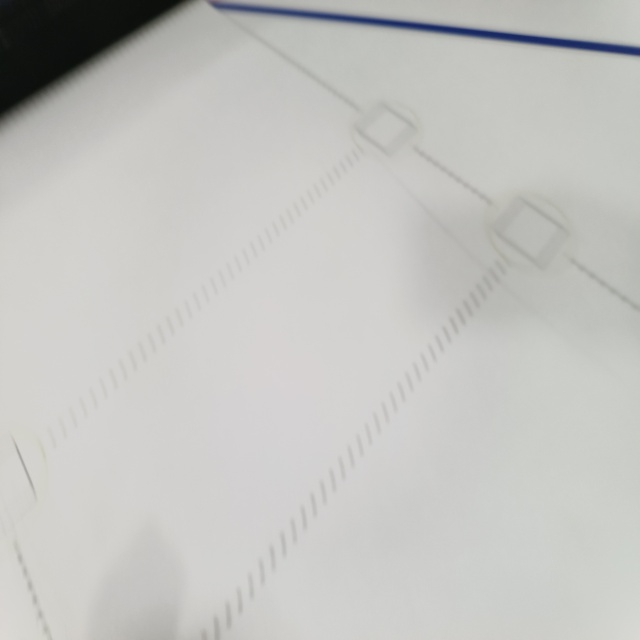blue line: (207, 0, 637, 56)
